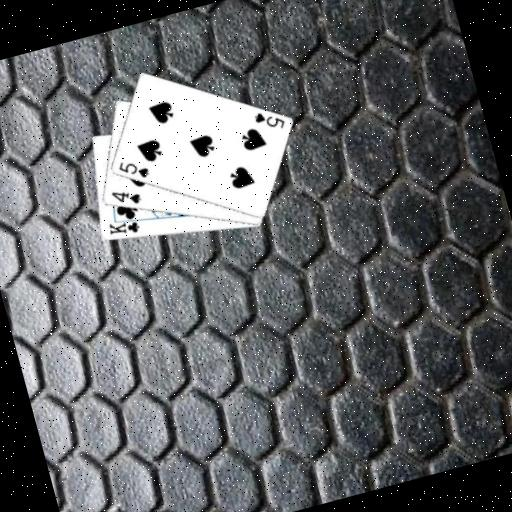4S: (106, 182, 143, 212)
5S: (113, 152, 151, 185), (249, 103, 287, 136)
KC: (103, 210, 146, 241)
